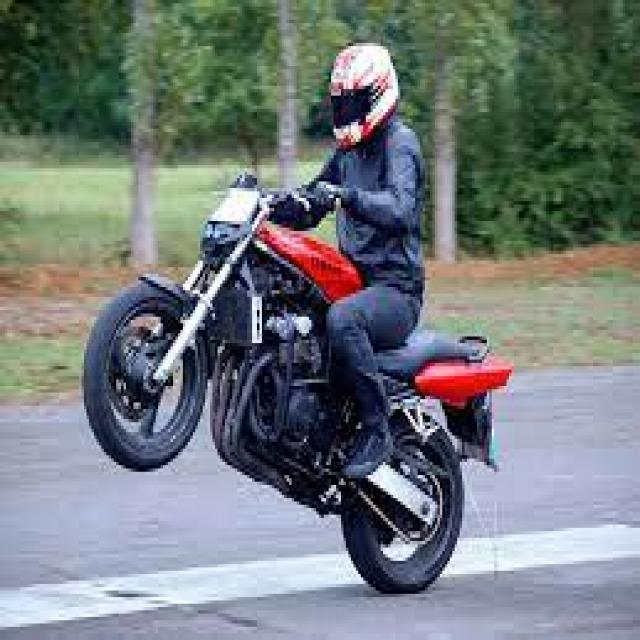Wheeling: (170, 47, 527, 559)
